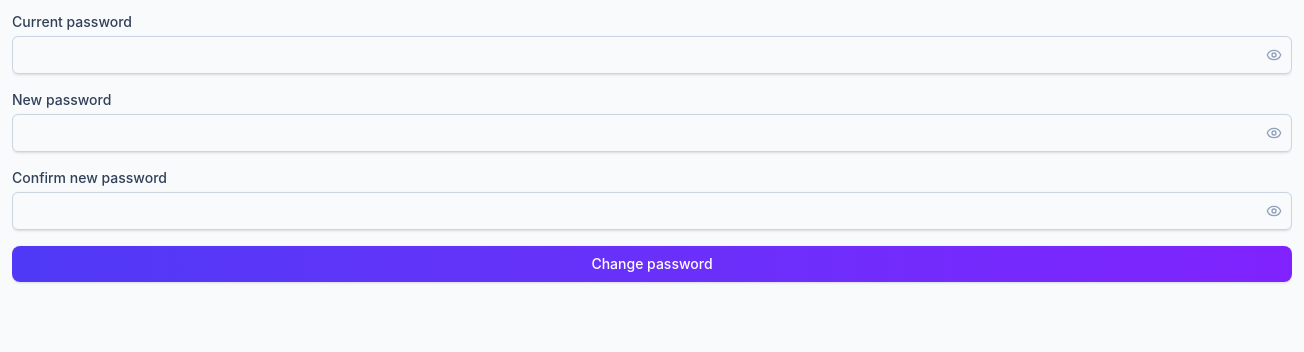
ChangePasswordForm › surfaces the server's error when the current password is wrong
The width and height of the screenshot is (1304, 352).
In the password field labelled "Current password": (652,55) x1=12 y1=36 x2=1292 y2=74, type "WrongPassword1!"
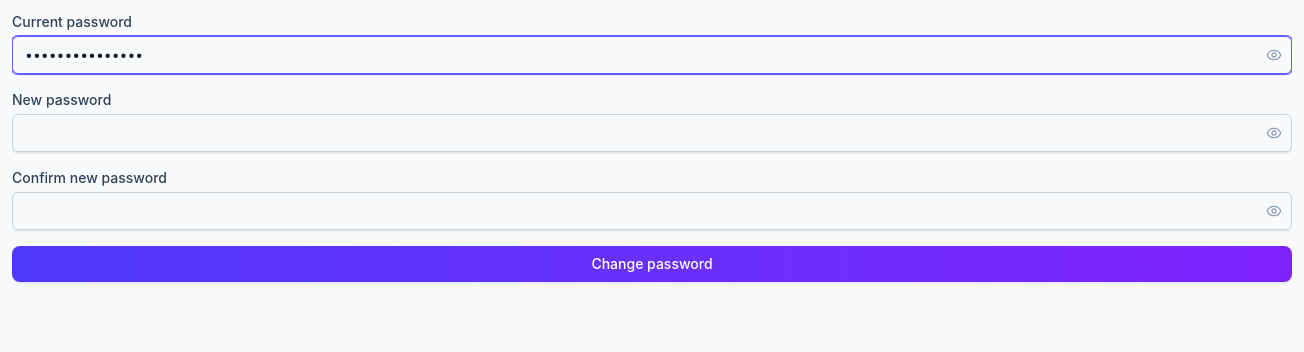
In the password field labelled "New password": (652,133) x1=12 y1=114 x2=1292 y2=152, type "NewPassword1!"
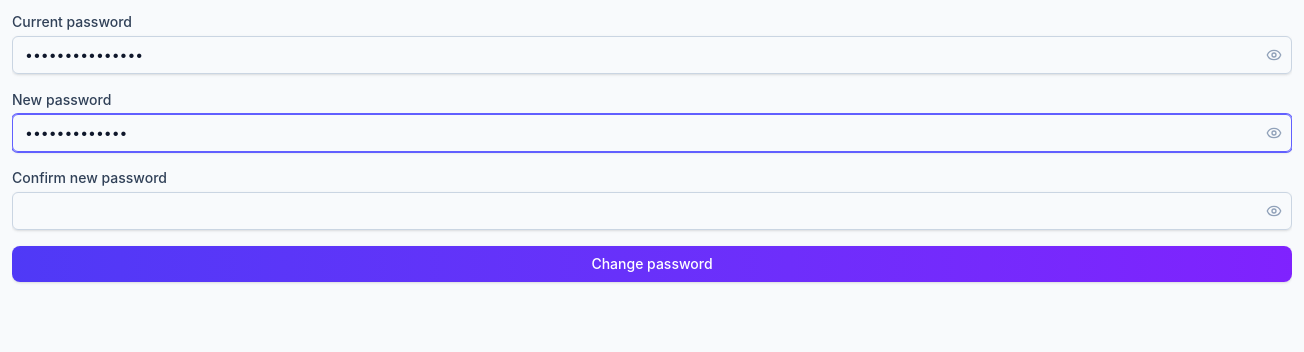
In the password field labelled "Confirm new password": (652,211) x1=12 y1=192 x2=1292 y2=230, type "NewPassword1!"
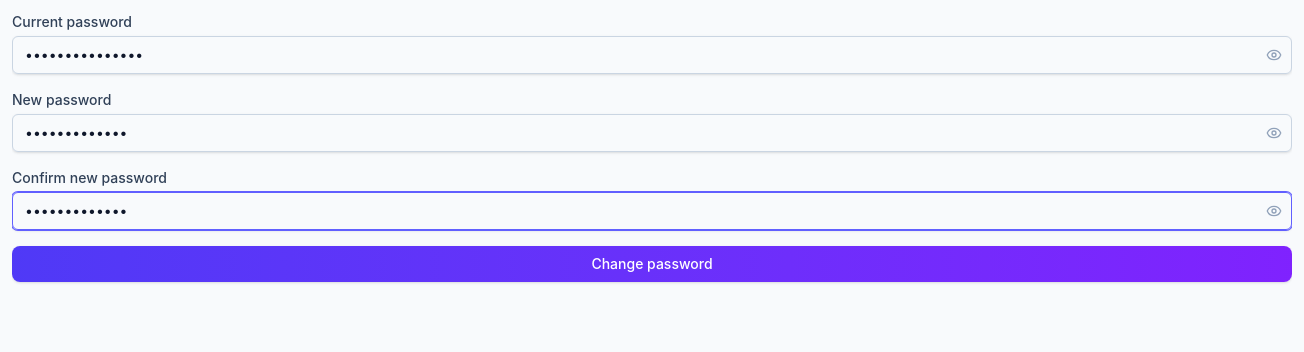
Click the button "Change password": (652,264) x1=12 y1=246 x2=1292 y2=282
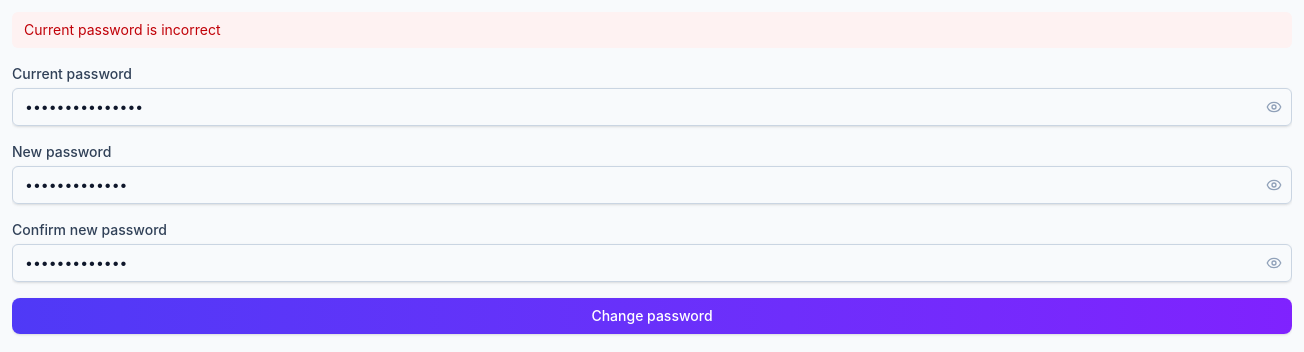
Now the message reads "Current password is incorrect", box x1=24 y1=21 x2=220 y2=38
